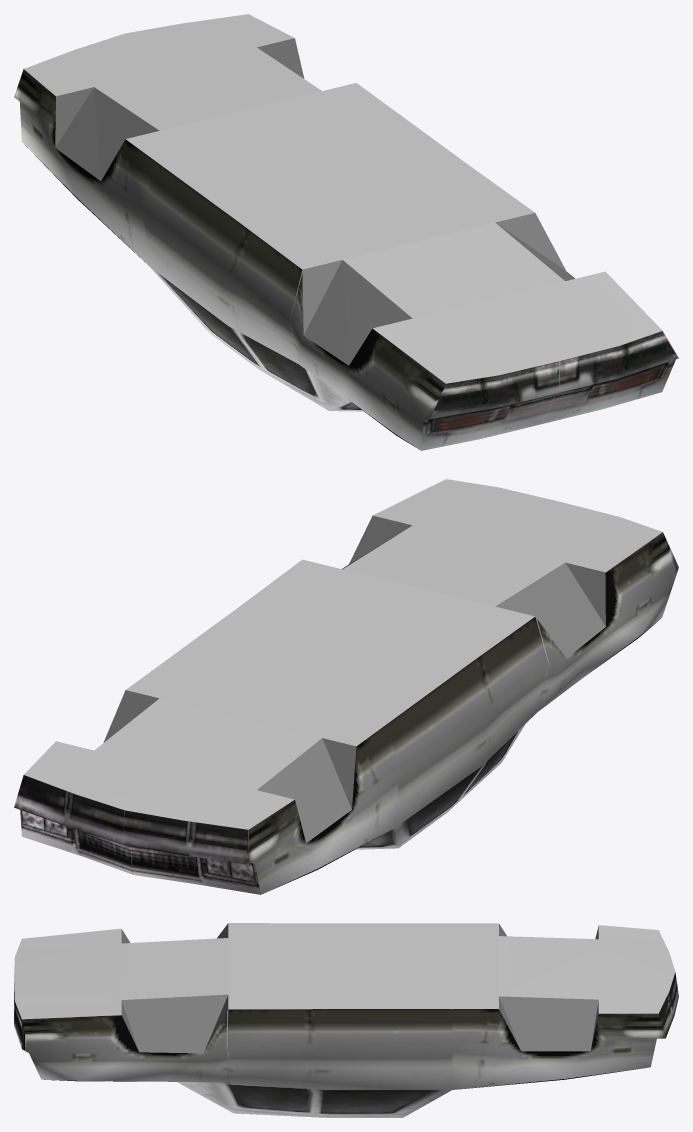
File: CHICAGO_model0_clean.obj
The picture shows the model from 3 angles, top to bottom: view 1: azimuth 30°, elevation 25°; view 2: azimuth 150°, elevation 25°; view 3: azimuth 270°, elevation 25°; orthographic projection. The views are drawn at different scales.
Parts seen in each view (by area): view 1: CHICAGO_model0_clean_set1_id0_ft, CHICAGO_model0_clean_set58_id13, CHICAGO_model0_clean_flat, CHICAGO_model0_clean_set58_id16, CHICAGO_model0_clean_set58_id12, CHICAGO_model0_clean_set58_id3, CHICAGO_model0_clean_set58_id0, CHICAGO_model0_clean_set58_id22; view 2: CHICAGO_model0_clean_set1_id0_ft, CHICAGO_model0_clean_set58_id13, CHICAGO_model0_clean_flat, CHICAGO_model0_clean_set58_id12, CHICAGO_model0_clean_set58_id16, CHICAGO_model0_clean_set58_id6, CHICAGO_model0_clean_set58_id9, CHICAGO_model0_clean_set58_id22; view 3: CHICAGO_model0_clean_set1_id0_ft, CHICAGO_model0_clean_set58_id13, CHICAGO_model0_clean_set58_id12, CHICAGO_model0_clean_flat, CHICAGO_model0_clean_set58_id16, CHICAGO_model0_clean_set58_id22, CHICAGO_model0_clean_set58_id9.
Part boxes in pixels (x1,y1,x2,y2): CHICAGO_model0_clean_set1_id0_ft: (24, 14, 662, 383); CHICAGO_model0_clean_set58_id13: (143, 162, 302, 363); CHICAGO_model0_clean_flat: (55, 38, 575, 365); CHICAGO_model0_clean_set58_id16: (290, 271, 445, 450); CHICAGO_model0_clean_set58_id12: (14, 69, 415, 447); CHICAGO_model0_clean_set58_id3: (421, 361, 559, 450); CHICAGO_model0_clean_set58_id0: (542, 331, 678, 423); CHICAGO_model0_clean_set58_id22: (149, 266, 349, 410); CHICAGO_model0_clean_set1_id0_ft: (24, 479, 662, 829); CHICAGO_model0_clean_set58_id13: (387, 617, 548, 827); CHICAGO_model0_clean_flat: (103, 515, 605, 842); CHICAGO_model0_clean_set58_id12: (248, 621, 657, 894); CHICAGO_model0_clean_set58_id16: (535, 532, 678, 711); CHICAGO_model0_clean_set58_id6: (122, 810, 260, 894); CHICAGO_model0_clean_set58_id9: (14, 775, 132, 874); CHICAGO_model0_clean_set58_id22: (394, 725, 524, 847); CHICAGO_model0_clean_set1_id0_ft: (14, 923, 675, 1019); CHICAGO_model0_clean_set58_id13: (227, 1009, 452, 1089); CHICAGO_model0_clean_set58_id12: (44, 1009, 665, 1089); CHICAGO_model0_clean_flat: (121, 923, 598, 1053); CHICAGO_model0_clean_set58_id16: (22, 1010, 229, 1082); CHICAGO_model0_clean_set58_id22: (177, 1082, 451, 1117); CHICAGO_model0_clean_set58_id9: (658, 972, 678, 1037).
Bounding box in the file's own units: 264 × 152 × 754.
13 materials, 11 textured.
